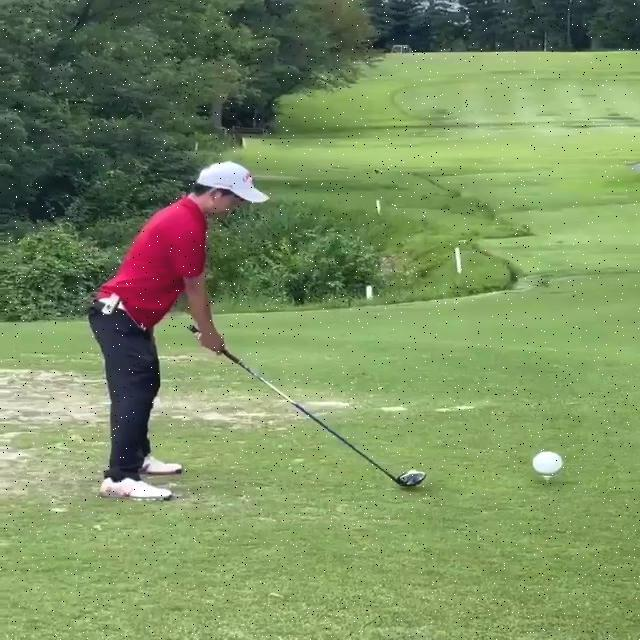ClubHandle: (188, 327, 426, 488)
ClubHead: (397, 472, 427, 488)
GolfBall: (409, 469, 417, 472)
